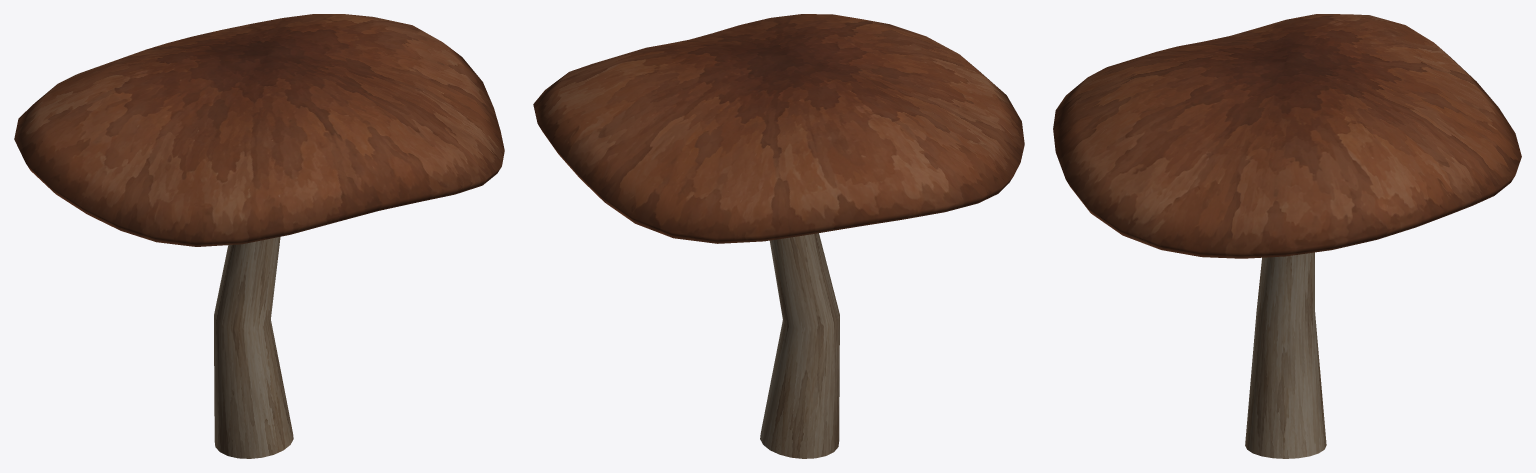
3 renders of one model, left to right at view 1: azimuth 30°, elevation 25°; view 2: azimuth 150°, elevation 25°; view 3: azimuth 270°, elevation 25°, orthographic. The views are drawn at different scales.
Parts seen in each view (by area): view 1: Broad umbrella cap, Curved supporting stem; view 2: Broad umbrella cap, Curved supporting stem; view 3: Broad umbrella cap, Curved supporting stem.
Boxes of the visible parts, x1,y1,x2,y2 form: Broad umbrella cap: [14, 14, 504, 246]; Curved supporting stem: [214, 236, 293, 458]; Broad umbrella cap: [533, 14, 1024, 243]; Curved supporting stem: [760, 233, 839, 458]; Broad umbrella cap: [1053, 14, 1521, 258]; Curved supporting stem: [1245, 252, 1326, 458].
Bounding box in the file's own units: 13.14 × 11.08 × 11.96.
1 material, 1 textured.
